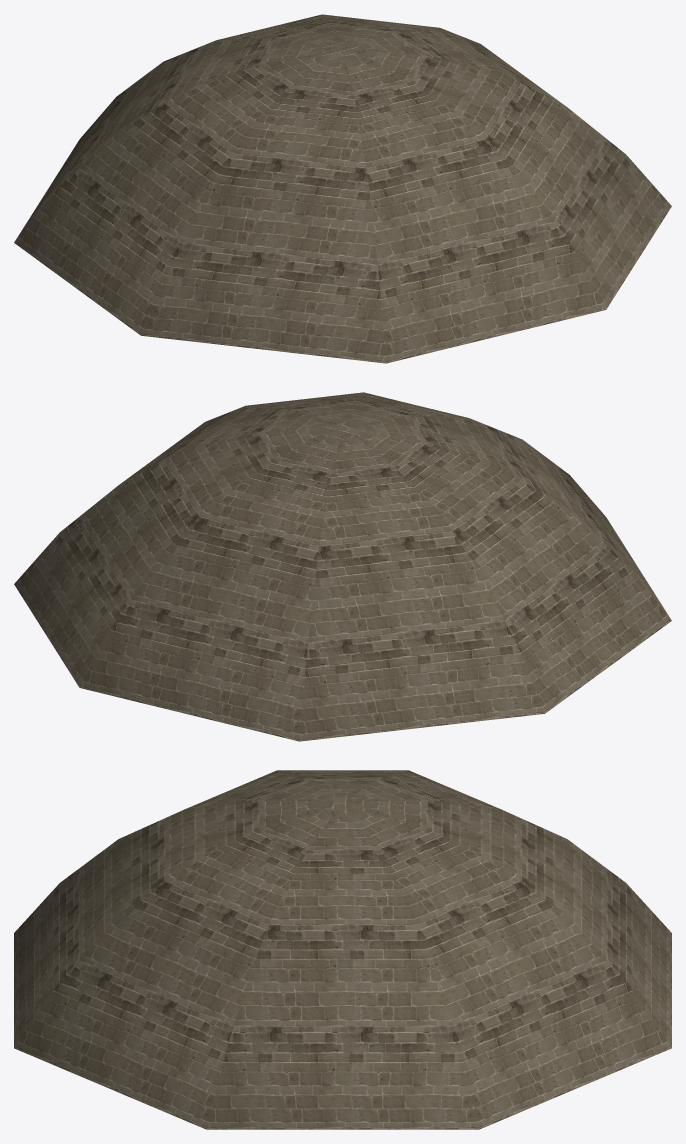
File: SM_Dome_Roof.FBX
3 renders of one model, top to bottom at view 1: azimuth 30°, elevation 25°; view 2: azimuth 150°, elevation 25°; view 3: azimuth 270°, elevation 25°, orthographic. The views are drawn at different scales.
Parts seen in each view (by area): view 1: SM_Dome_Roof; view 2: SM_Dome_Roof; view 3: SM_Dome_Roof.
Part boxes in pixels (box(x1,y1,x2,y2)): SM_Dome_Roof: box(14, 14, 671, 363); SM_Dome_Roof: box(14, 392, 671, 741); SM_Dome_Roof: box(14, 770, 671, 1129).
Size of what is drawn, in the model's own units: 2058 by 2058 by 639.
